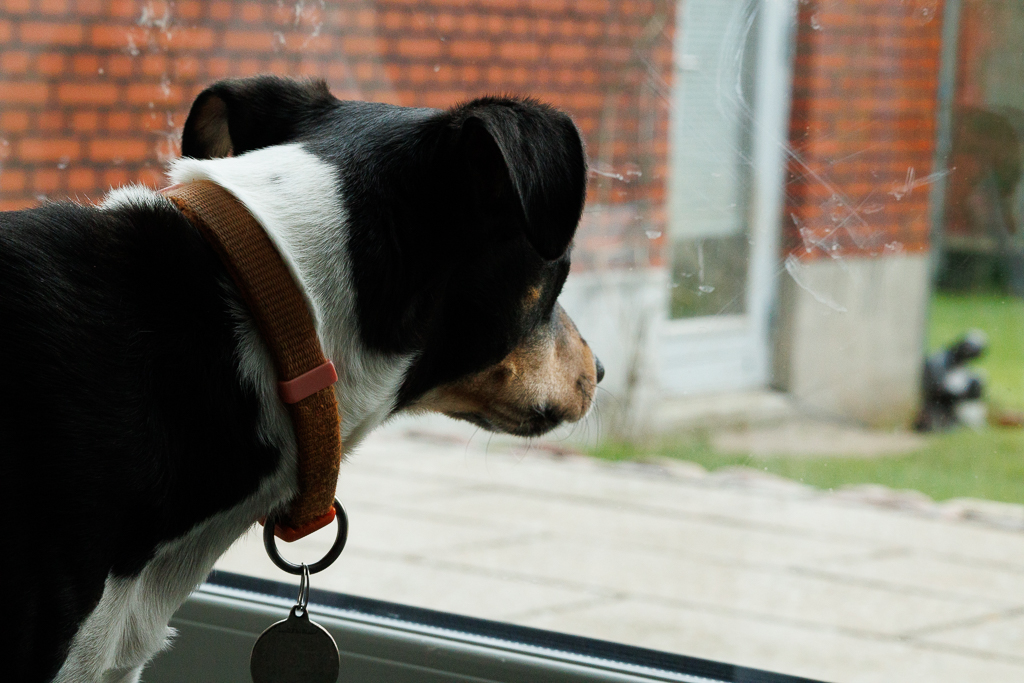Dog: (0, 65, 614, 683)
Humanoid: (907, 313, 1002, 453)
